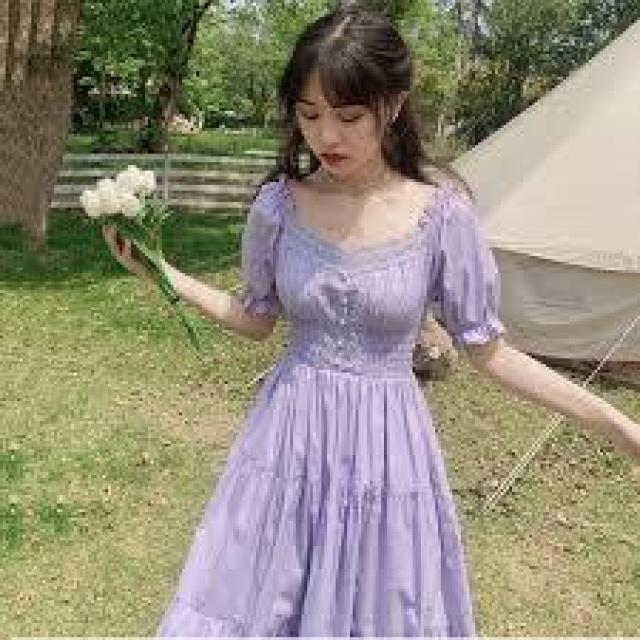dress: (199, 176, 506, 640)
